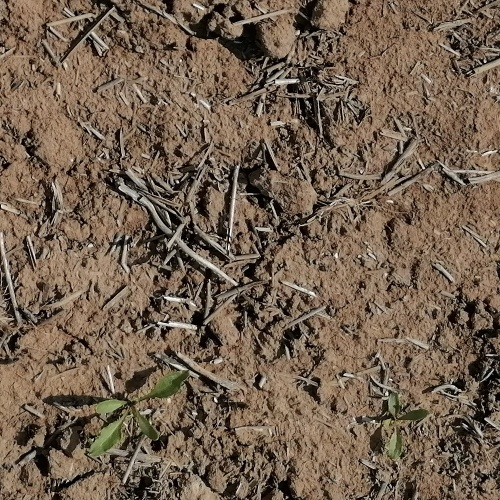beet: (89, 369, 192, 457), (378, 394, 429, 459)
